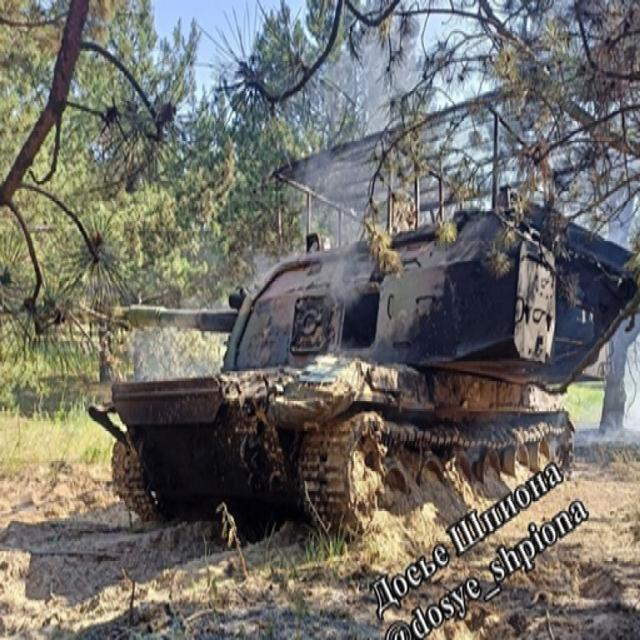ART: (104, 191, 634, 545)
